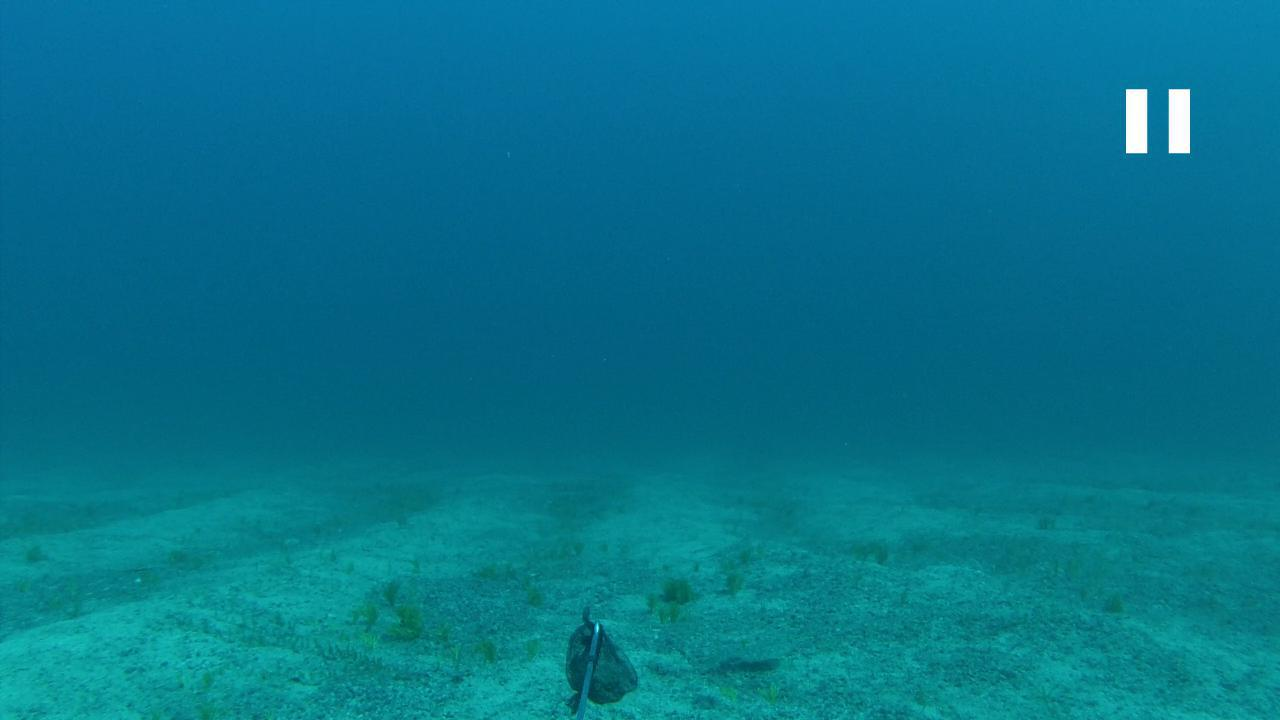bothus: (674, 636, 786, 675)
